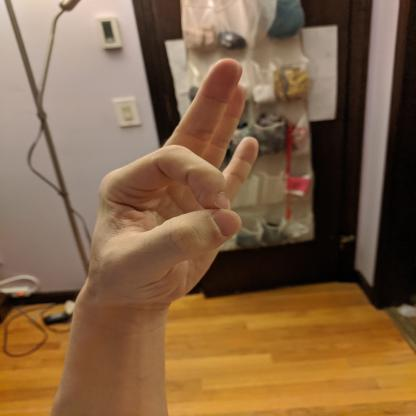F: (80, 55, 266, 316)
